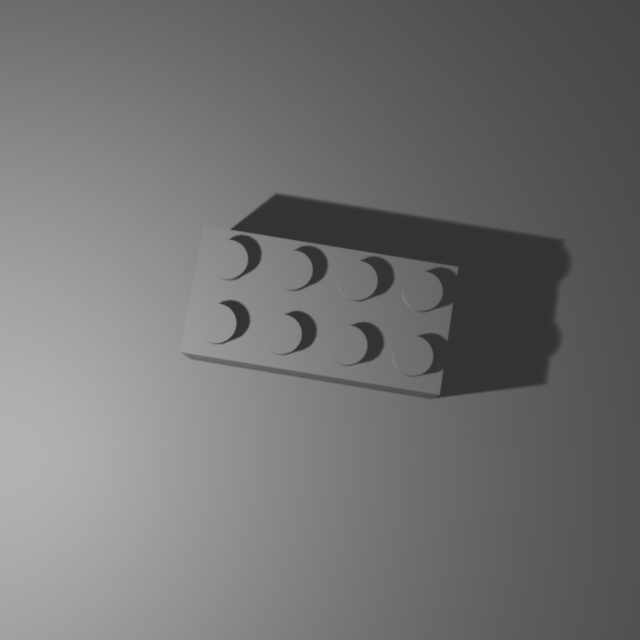lego_2x4: (178, 222, 460, 399)
